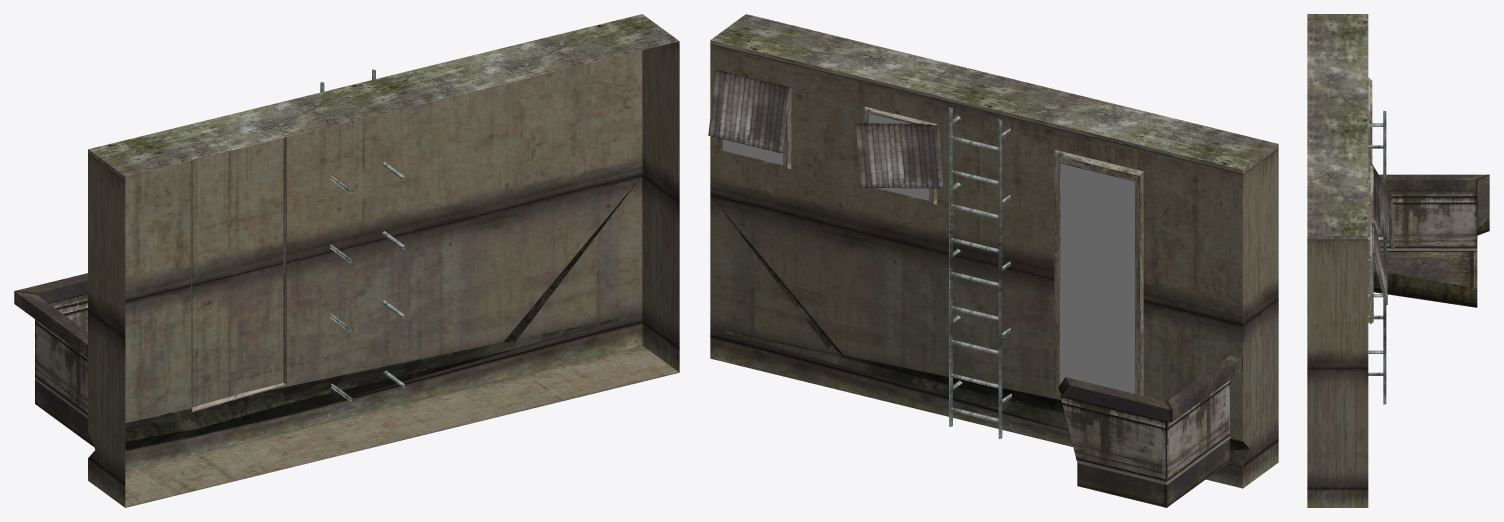
Rendered from Store_front_14_D.fbx.
3 renders of one model, left to right at view 1: azimuth 30°, elevation 25°; view 2: azimuth 150°, elevation 25°; view 3: azimuth 270°, elevation 25°, orthographic. The views are drawn at different scales.
Parts seen in each view (by area): view 1: Store_front_14_D; view 2: Store_front_14_D; view 3: Store_front_14_D.
Boxes of the visible parts, x1=… form: Store_front_14_D: x1=14, y1=14, x2=679, y2=507; Store_front_14_D: x1=708, y1=14, x2=1278, y2=507; Store_front_14_D: x1=1307, y1=14, x2=1489, y2=507.
Bounding box in the file's own units: 700 × 400 × 243.
